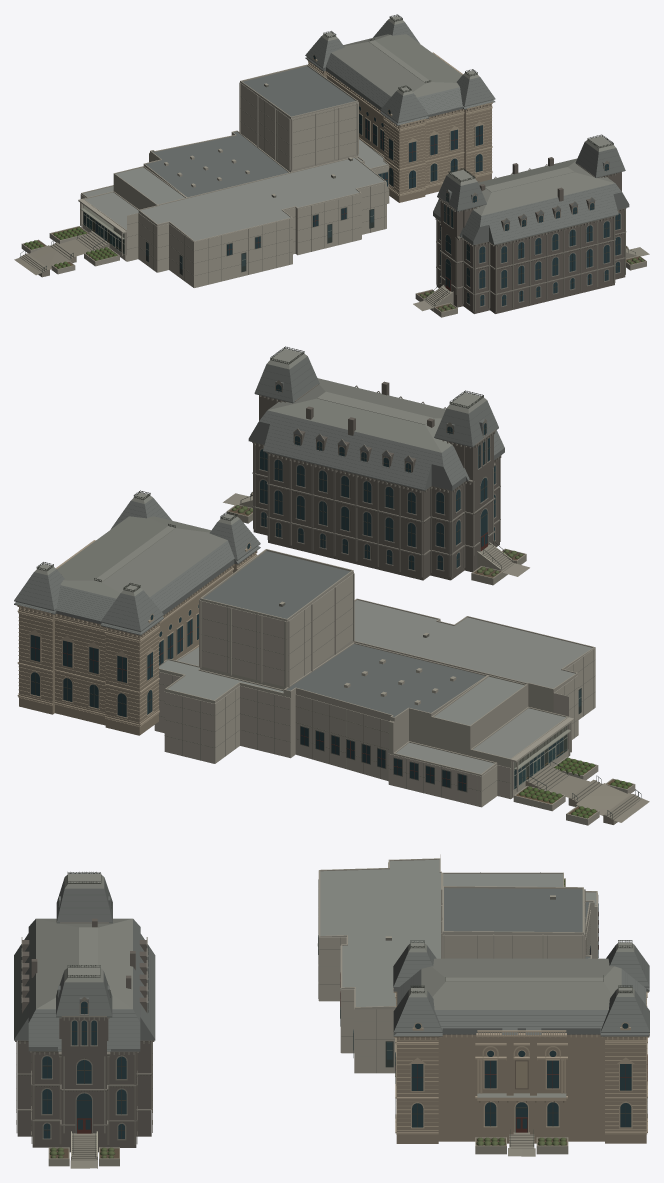
The model's file is site.glb.
3 renders of one model, top to bottom at view 1: azimuth 30°, elevation 25°; view 2: azimuth 150°, elevation 25°; view 3: azimuth 270°, elevation 25°, orthographic. The views are drawn at different scales.
Parts seen in each view (by area): view 1: roof-944fcd46, roof-9017feee, roof-399c648e, heritage-miller-approaches; view 2: roof-944fcd46, roof-9017feee, roof-399c648e, heritage-miller-approaches; view 3: roof-399c648e, roof-9017feee, roof-944fcd46, heritage-miller-approaches.
Part boxes in pixels (left/top/right/bottom): roof-944fcd46: left=78, top=64, right=389, bottom=287; roof-9017feee: left=433, top=134, right=629, bottom=313; roof-399c648e: left=305, top=14, right=495, bottom=202; heritage-miller-approaches: left=14, top=226, right=649, bottom=317; roof-944fcd46: left=154, top=549, right=595, bottom=807; roof-9017feee: left=248, top=346, right=504, bottom=580; roof-399c648e: left=14, top=490, right=260, bottom=735; heritage-miller-approaches: left=223, top=492, right=649, bottom=825; roof-399c648e: left=393, top=940, right=649, bottom=1143; roof-9017feee: left=14, top=872, right=155, bottom=1152; roof-944fcd46: left=317, top=854, right=598, bottom=1073; heritage-miller-approaches: left=48, top=872, right=568, bottom=1168.
Size of the model in its own units: 105 by 29.96 by 88.95.
